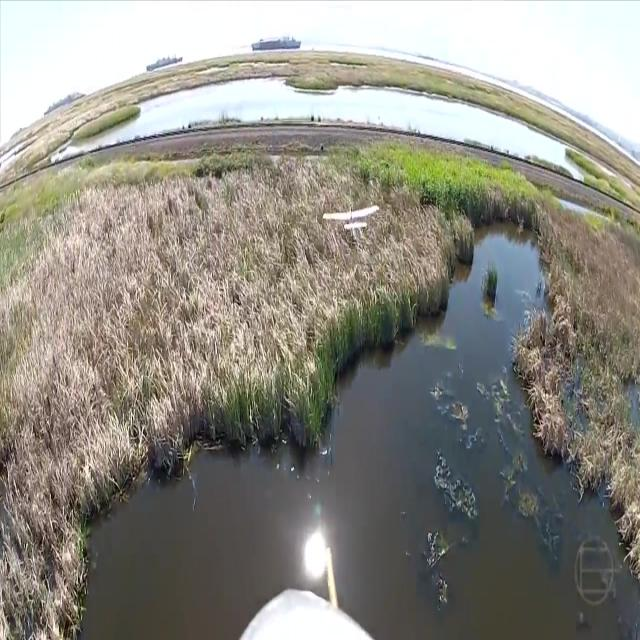iha: (322, 203, 380, 232)
